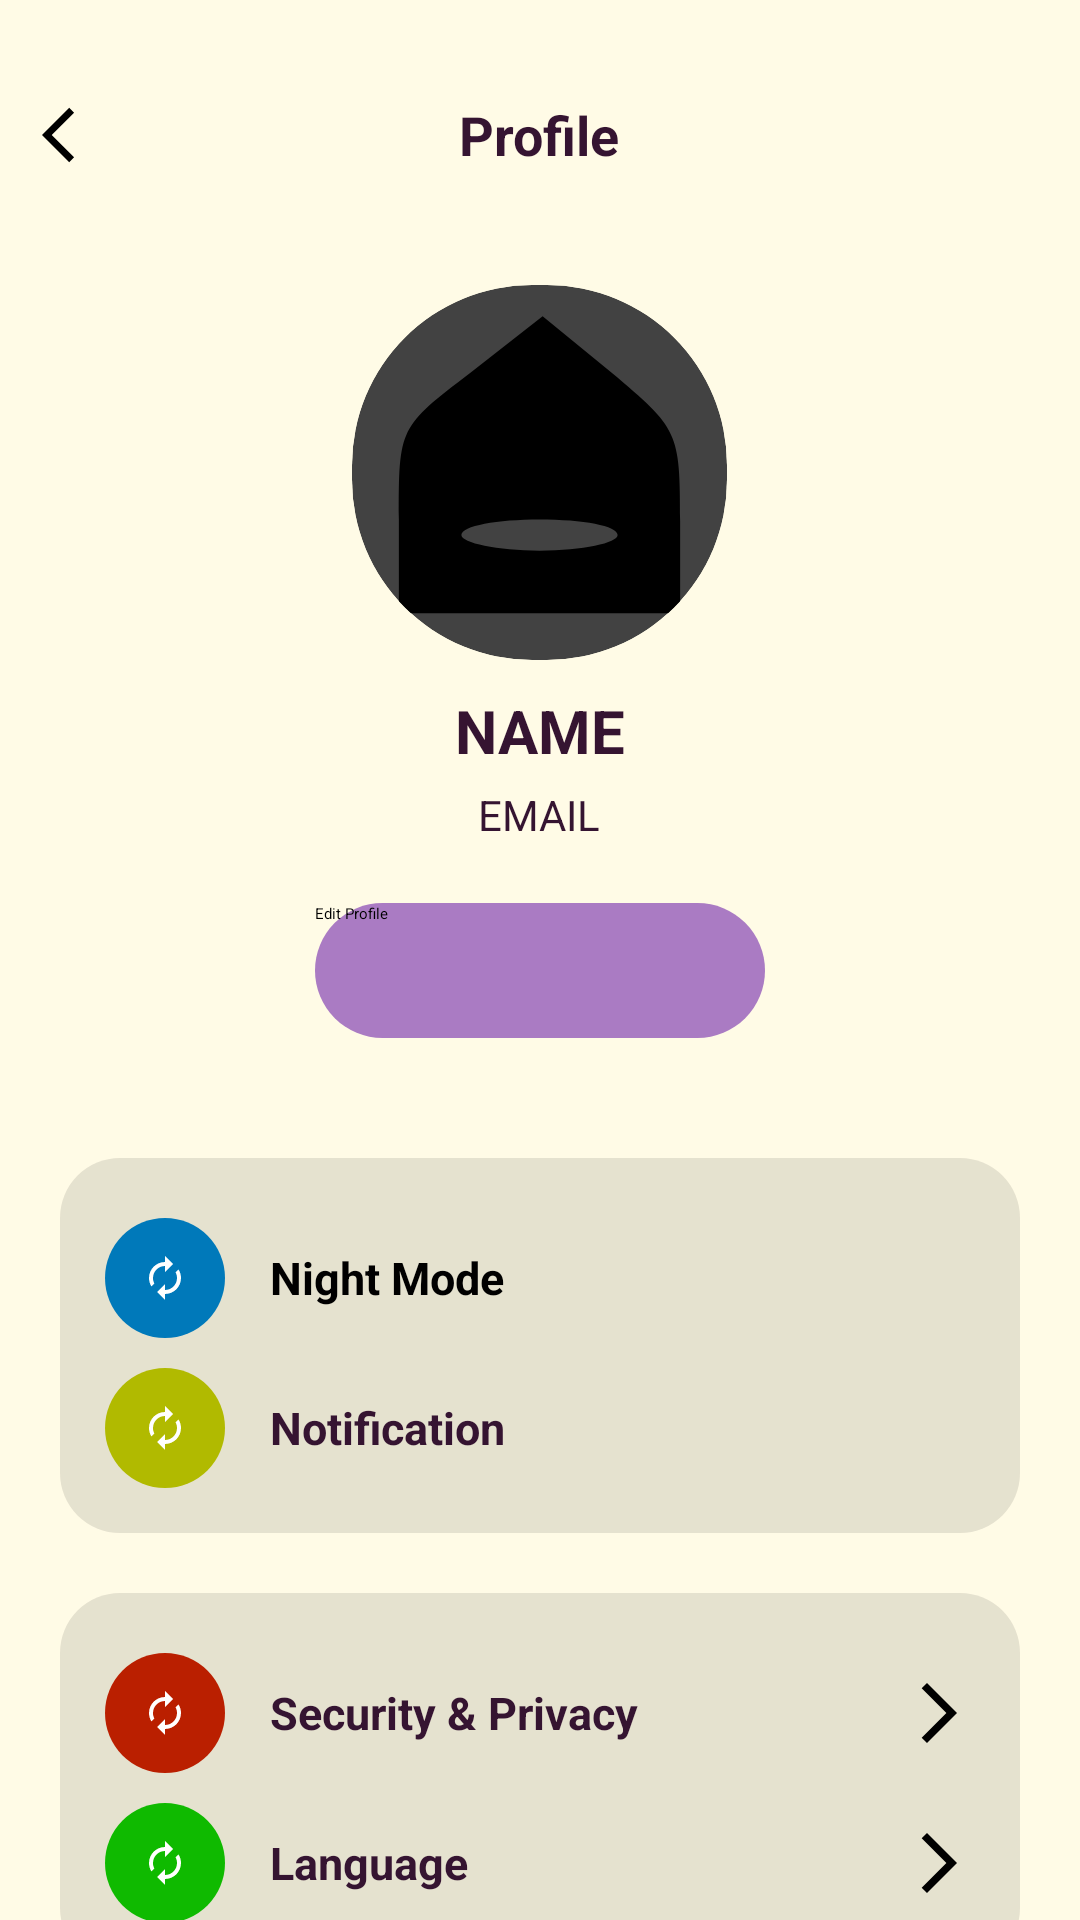

Locate icon controls on the screen. Image size 1080px×1920px, boxes as [x1, y1, x2, y2].
backward: [42, 108, 74, 162]
forward: [922, 1683, 957, 1743], [922, 1833, 957, 1893]
